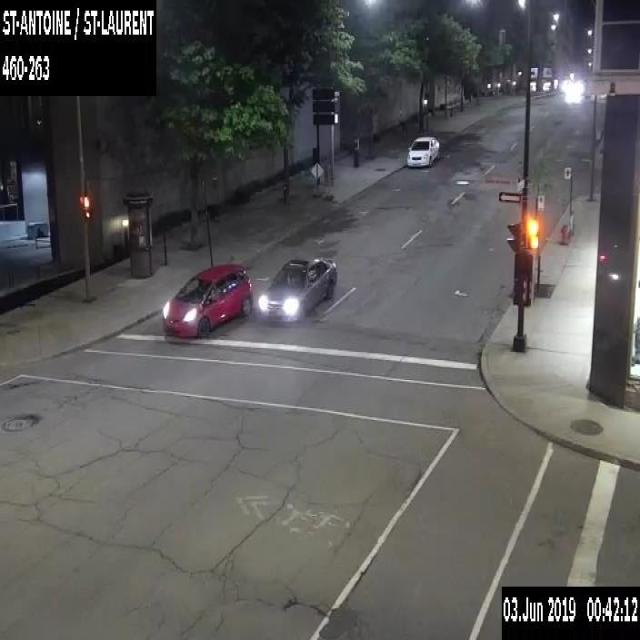vehicle: (161, 262, 253, 338), (258, 252, 338, 321), (405, 134, 441, 167)
